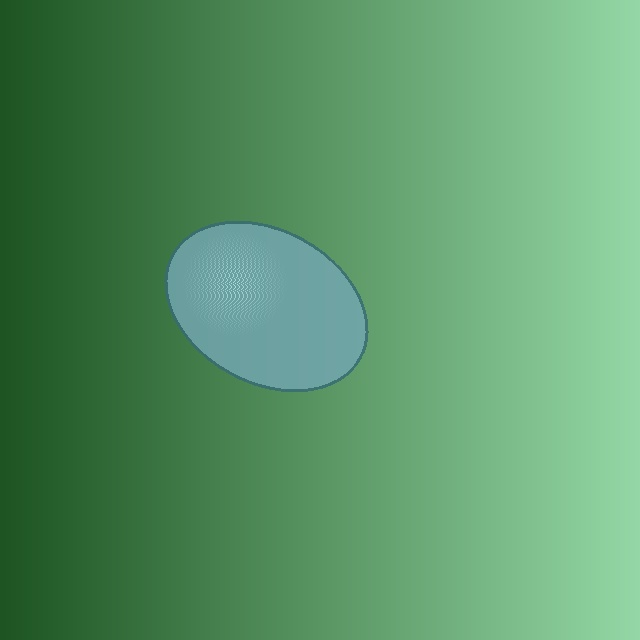lens: (166, 222, 366, 390)
